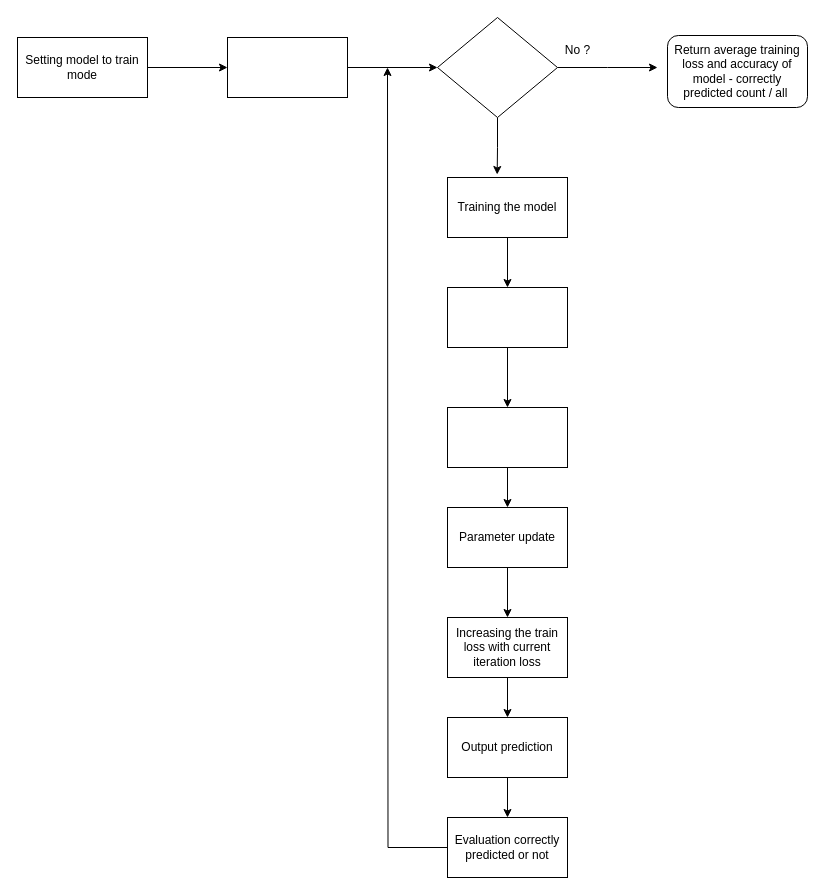
Some shapes in this 825 by 895 pixel diagram are drawn without their labels. Here are the shapes that lost their labels. From the top down, the centre of each, then its label:
the point at 287,67: Resetting train_loss and correctly predicted sample counts to 0
the point at 497,67: All data has been used in training ?
the point at 507,317: Calculation of loss with loss function CrossEntropyLoss
the point at 507,437: Clearing the gradients
